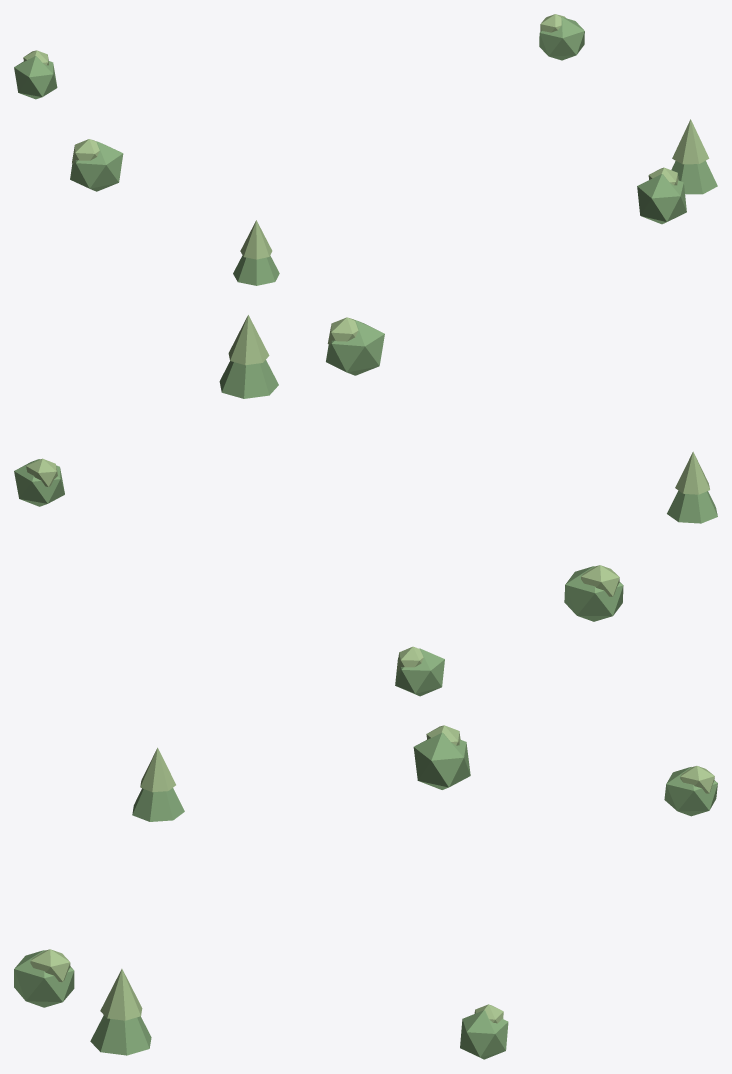
The model's file is entry_dawn_meadow_wind_canopies.fbx.
3 renders of one model, top to bottom at view 1: azimuth 30°, elevation 25°; view 2: azimuth 150°, elevation 25°; view 3: azimuth 270°, elevation 25°, orthographic. The views are drawn at different scales.
Parts seen in each view (by area): view 1: chunk_entry_dawn_meadow__tree_canopy_07, chunk_entry_dawn_meadow__tree_canopy_02, chunk_entry_dawn_meadow__tree_canopy_05, chunk_entry_dawn_meadow__tree_canopy_12, chunk_entry_dawn_meadow__tree_canopy_03, chunk_entry_dawn_meadow__tree_canopy_10, chunk_entry_dawn_meadow__tree_canopy_09, chunk_entry_dawn_meadow__tree_canopy_04, chunk_entry_dawn_meadow__tree_canopy_01; view 2: chunk_entry_dawn_meadow__tree_canopy_07, chunk_entry_dawn_meadow__tree_canopy_02, chunk_entry_dawn_meadow__tree_canopy_10, chunk_entry_dawn_meadow__tree_canopy_05, chunk_entry_dawn_meadow__tree_canopy_12, chunk_entry_dawn_meadow__tree_canopy_03, chunk_entry_dawn_meadow__tree_canopy_09, chunk_entry_dawn_meadow__tree_canopy_04, chunk_entry_dawn_meadow__tree_canopy_01; view 3: chunk_entry_dawn_meadow__tree_canopy_02, chunk_entry_dawn_meadow__tree_canopy_07, chunk_entry_dawn_meadow__tree_canopy_10, chunk_entry_dawn_meadow__tree_canopy_12, chunk_entry_dawn_meadow__tree_canopy_05, chunk_entry_dawn_meadow__tree_canopy_03, chunk_entry_dawn_meadow__tree_canopy_09, chunk_entry_dawn_meadow__tree_canopy_04, chunk_entry_dawn_meadow__tree_canopy_08, chunk_entry_dawn_meadow__tree_canopy_06.
Boxes of the visible parts, left/top/right/bottom form: chunk_entry_dawn_meadow__tree_canopy_07: left=637, top=174, right=686, bottom=224; chunk_entry_dawn_meadow__tree_canopy_02: left=70, top=141, right=123, bottom=191; chunk_entry_dawn_meadow__tree_canopy_05: left=14, top=56, right=57, bottom=99; chunk_entry_dawn_meadow__tree_canopy_12: left=539, top=17, right=584, bottom=60; chunk_entry_dawn_meadow__tree_canopy_03: left=233, top=255, right=279, bottom=285; chunk_entry_dawn_meadow__tree_canopy_10: left=671, top=160, right=717, bottom=194; chunk_entry_dawn_meadow__tree_canopy_09: left=672, top=119, right=709, bottom=164; chunk_entry_dawn_meadow__tree_canopy_04: left=240, top=220, right=272, bottom=259; chunk_entry_dawn_meadow__tree_canopy_01: left=72, top=139, right=99, bottom=163; chunk_entry_dawn_meadow__tree_canopy_07: left=326, top=320, right=384, bottom=375; chunk_entry_dawn_meadow__tree_canopy_02: left=564, top=566, right=623, bottom=621; chunk_entry_dawn_meadow__tree_canopy_10: left=219, top=360, right=278, bottom=398; chunk_entry_dawn_meadow__tree_canopy_05: left=395, top=648, right=444, bottom=696; chunk_entry_dawn_meadow__tree_canopy_12: left=14, top=459, right=64, bottom=506; chunk_entry_dawn_meadow__tree_canopy_03: left=667, top=490, right=717, bottom=523; chunk_entry_dawn_meadow__tree_canopy_09: left=228, top=315, right=269, bottom=365; chunk_entry_dawn_meadow__tree_canopy_04: left=675, top=451, right=709, bottom=494; chunk_entry_dawn_meadow__tree_canopy_01: left=581, top=565, right=619, bottom=596; chunk_entry_dawn_meadow__tree_canopy_02: left=413, top=732, right=470, bottom=789; chunk_entry_dawn_meadow__tree_canopy_07: left=14, top=950, right=74, bottom=1007; chunk_entry_dawn_meadow__tree_canopy_10: left=90, top=1015, right=151, bottom=1055; chunk_entry_dawn_meadow__tree_canopy_12: left=460, top=1010, right=508, bottom=1059; chunk_entry_dawn_meadow__tree_canopy_05: left=664, top=767, right=717, bottom=816; chunk_entry_dawn_meadow__tree_canopy_03: left=132, top=788, right=184, bottom=821; chunk_entry_dawn_meadow__tree_canopy_09: left=100, top=969, right=142, bottom=1020; chunk_entry_dawn_meadow__tree_canopy_04: left=140, top=747, right=175, bottom=792; chunk_entry_dawn_meadow__tree_canopy_08: left=30, top=949, right=70, bottom=982; chunk_entry_dawn_meadow__tree_canopy_06: left=680, top=766, right=714, bottom=793.
Size of the model in its own units: 175 by 20.91 by 177.
